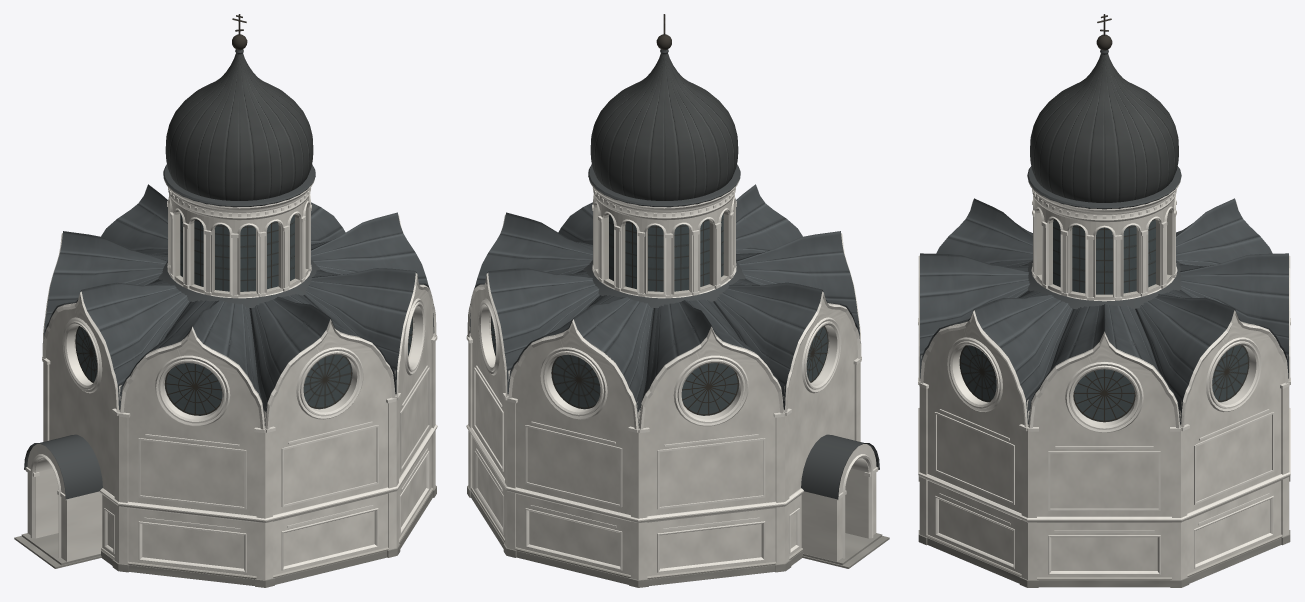
File: Lazarus_1862_AR.glb
3 views of the same model, side by side, from view 1: azimuth 30°, elevation 25°; view 2: azimuth 150°, elevation 25°; view 3: azimuth 270°, elevation 25° (orthographic).
Parts seen in each view (by area): view 1: Lazarus_1862_AR; view 2: Lazarus_1862_AR; view 3: Lazarus_1862_AR.
Boxes of the visible parts, <box> form: Lazarus_1862_AR: <box>14,14,437,587</box>; Lazarus_1862_AR: <box>466,14,889,587</box>; Lazarus_1862_AR: <box>918,14,1290,587</box>.
Bounding box in the file's own units: 13.15 × 16.9 × 11.53.
Materials: 2 (2 with a texture image).
